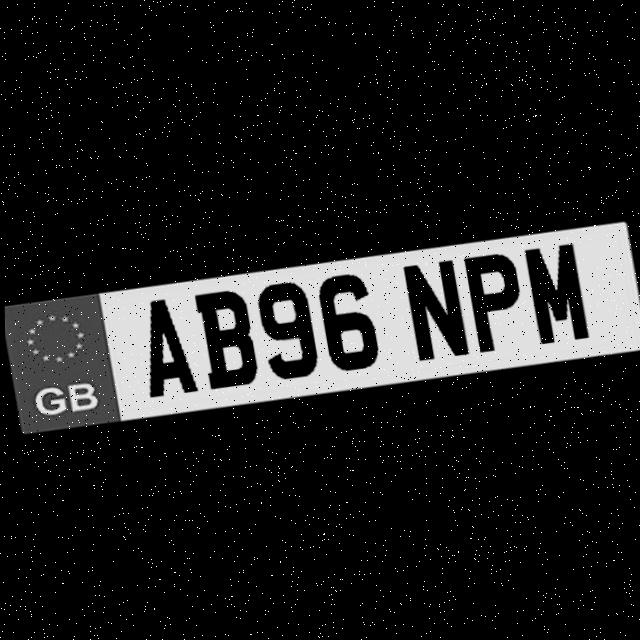license-plates: (5, 220, 640, 434)
